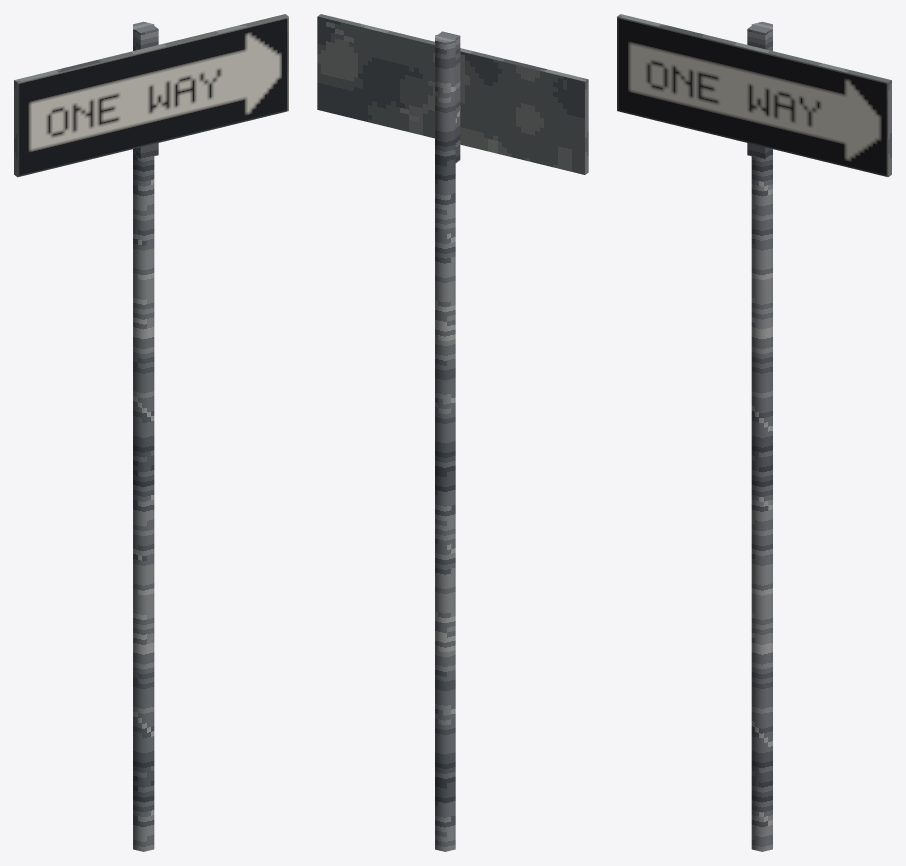
File: SP_Sign_OneWay.obj
The picture shows the model from 3 angles, left to right: view 1: azimuth 30°, elevation 25°; view 2: azimuth 150°, elevation 25°; view 3: azimuth 330°, elevation 25°; orthographic projection.
Visible parts, largest first — view 1: SP_Sign_OneWay_Mesh_M_Town_SignAtlas, SP_Sign_OneWay_Mesh_M_Furn_MetalBrushed, SP_Sign_OneWay_Mesh_M_Com_SignageBacking; view 2: SP_Sign_OneWay_Mesh_M_Com_SignageBacking, SP_Sign_OneWay_Mesh_M_Furn_MetalBrushed; view 3: SP_Sign_OneWay_Mesh_M_Town_SignAtlas, SP_Sign_OneWay_Mesh_M_Furn_MetalBrushed, SP_Sign_OneWay_Mesh_M_Com_SignageBacking.
Part boxes in pixels (x1,y1,x2,y2): SP_Sign_OneWay_Mesh_M_Town_SignAtlas: [17, 16, 288, 176]; SP_Sign_OneWay_Mesh_M_Furn_MetalBrushed: [133, 21, 158, 851]; SP_Sign_OneWay_Mesh_M_Com_SignageBacking: [14, 14, 288, 176]; SP_Sign_OneWay_Mesh_M_Com_SignageBacking: [317, 14, 588, 174]; SP_Sign_OneWay_Mesh_M_Furn_MetalBrushed: [435, 31, 460, 851]; SP_Sign_OneWay_Mesh_M_Town_SignAtlas: [617, 16, 888, 176]; SP_Sign_OneWay_Mesh_M_Furn_MetalBrushed: [747, 21, 772, 851]; SP_Sign_OneWay_Mesh_M_Com_SignageBacking: [617, 14, 891, 176].
Size of the model in its own units: 0.9 by 2.6 by 0.0853.
3 materials, 3 textured.
